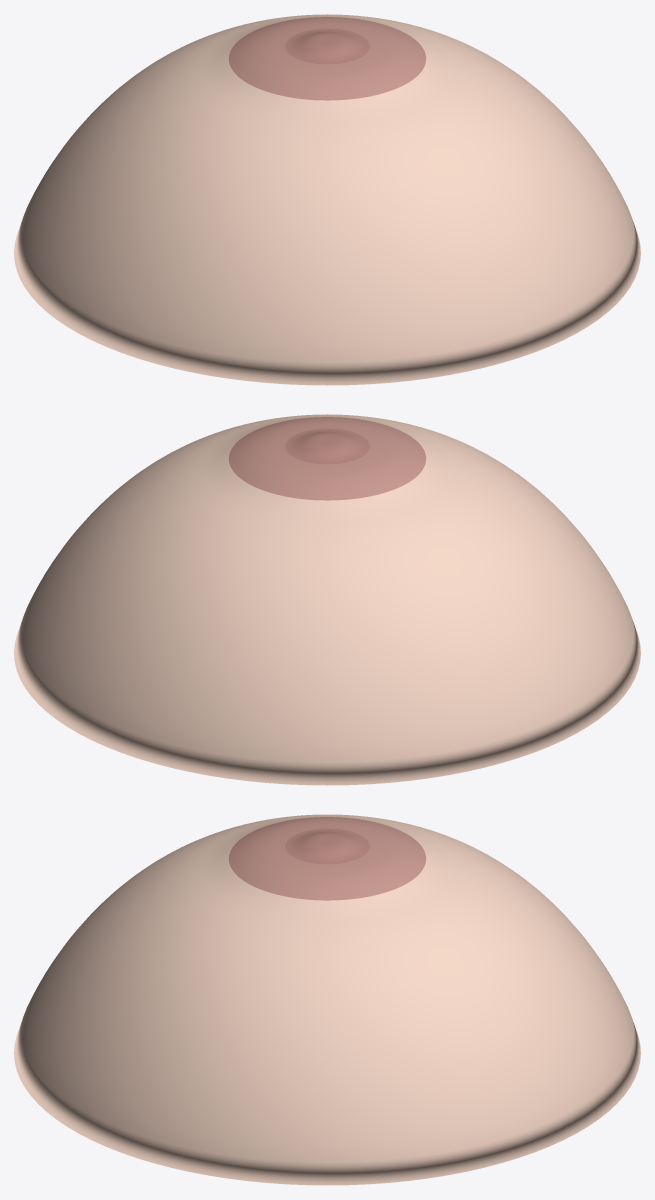
File: bico-plano.glb
3 renders of one model, top to bottom at view 1: azimuth 30°, elevation 25°; view 2: azimuth 150°, elevation 25°; view 3: azimuth 270°, elevation 25°, orthographic.
Parts seen in each view (by area): view 1: seio; view 2: seio; view 3: seio.
Part boxes in pixels (bbox=[...]): seio: bbox=[14, 14, 640, 385]; seio: bbox=[14, 414, 640, 785]; seio: bbox=[14, 814, 640, 1185].
Size of the model in its own units: 0.12 by 0.0448 by 0.12.
